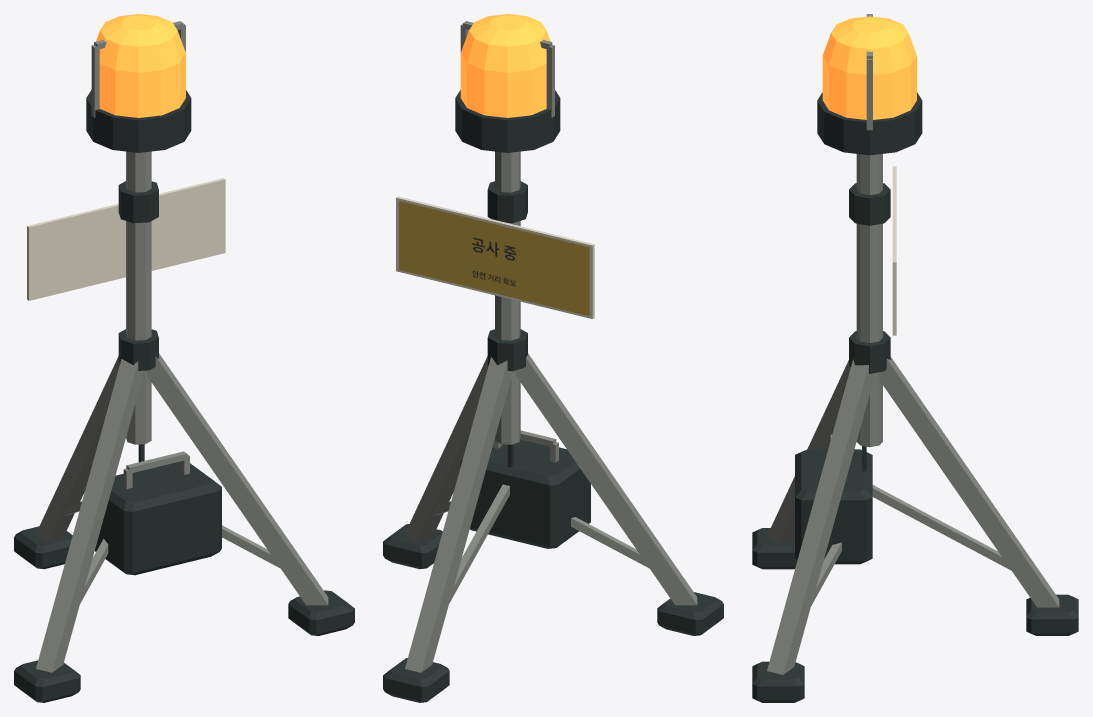
File: D06_Tripod_Warning_Beacon.fbx
3 views of the same model, side by side, from view 1: azimuth 30°, elevation 25°; view 2: azimuth 150°, elevation 25°; view 3: azimuth 270°, elevation 25° (orthographic).
Visible parts, largest first — view 1: Tripod, Front_Construction_Sign, Battery, Beacon_Lens, Beacon_Base, Beacon_Guard; view 2: Tripod, Front_Construction_Sign, Battery, Beacon_Lens, Beacon_Base, Beacon_Guard; view 3: Tripod, Beacon_Lens, Battery, Beacon_Base, Front_Construction_Sign, Beacon_Guard.
Boxes of the visible parts, <box> form: Tripod: <box>14,151,354,702</box>; Front_Construction_Sign: <box>27,178,225,300</box>; Battery: <box>95,444,221,575</box>; Beacon_Lens: <box>96,14,185,117</box>; Beacon_Base: <box>86,90,191,152</box>; Beacon_Guard: <box>91,21,185,117</box>; Tripod: <box>383,151,723,702</box>; Front_Construction_Sign: <box>396,196,594,318</box>; Battery: <box>460,430,590,548</box>; Beacon_Lens: <box>460,14,550,117</box>; Beacon_Base: <box>455,90,560,152</box>; Beacon_Guard: <box>460,21,554,117</box>; Tripod: <box>752,154,1078,702</box>; Beacon_Lens: <box>822,16,916,119</box>; Battery: <box>795,434,872,564</box>; Beacon_Base: <box>817,92,922,155</box>; Front_Construction_Sign: <box>892,166,896,335</box>; Beacon_Guard: <box>866,14,872,130</box>.
Bounding box in the file's own units: 1.33 × 2.4 × 1.18.
Materials: 5 (1 with a texture image).
